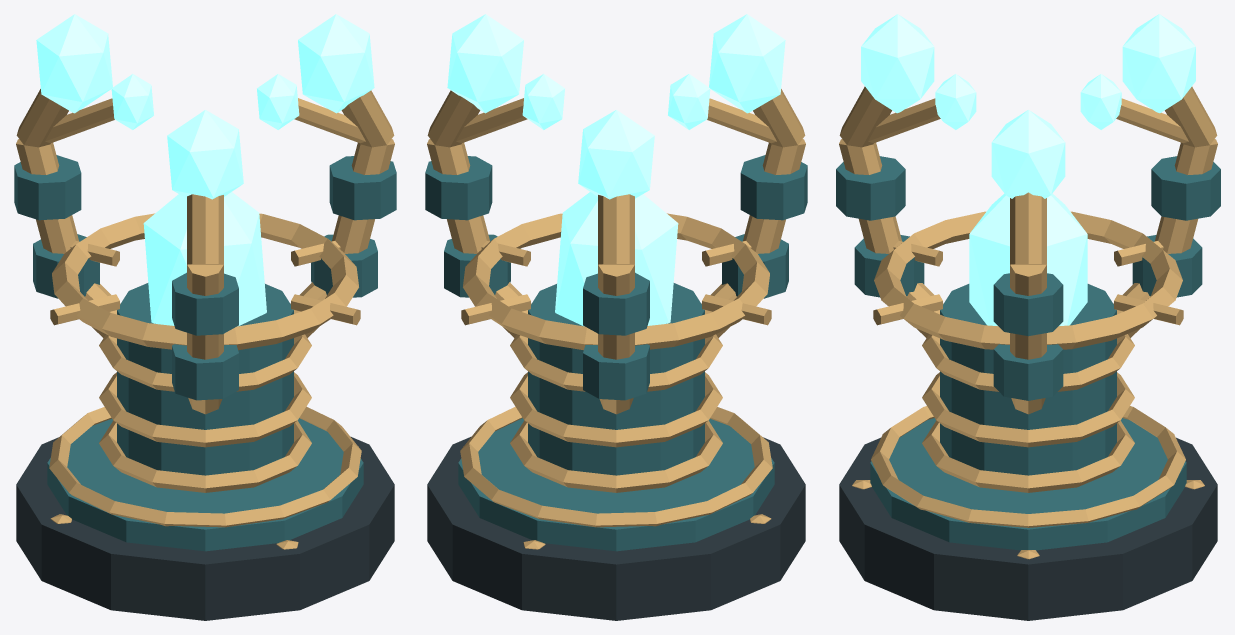
File: evolution-arc-web.glb
The picture shows the model from 3 angles, left to right: view 1: azimuth 30°, elevation 25°; view 2: azimuth 150°, elevation 25°; view 3: azimuth 270°, elevation 25°; orthographic projection.
Parts seen in each view (by area): view 1: evolution-arc-web / Paint | armory deep Hanseatic enamel, evolution-arc-web / Brass | armory machined champagne bronze, evolution-arc-web / Structure | armory dark pressure steel, evolution-arc-web / Lamp | armory pale electric mint, Runtime flywheel Y | evolution-arc-web; view 2: evolution-arc-web / Paint | armory deep Hanseatic enamel, evolution-arc-web / Brass | armory machined champagne bronze, evolution-arc-web / Structure | armory dark pressure steel, evolution-arc-web / Lamp | armory pale electric mint, Runtime flywheel Y | evolution-arc-web; view 3: evolution-arc-web / Paint | armory deep Hanseatic enamel, evolution-arc-web / Brass | armory machined champagne bronze, evolution-arc-web / Structure | armory dark pressure steel, evolution-arc-web / Lamp | armory pale electric mint, Runtime flywheel Y | evolution-arc-web.
Boxes of the visible parts, x1=… form: evolution-arc-web / Paint | armory deep Hanseatic enamel: x1=14, y1=155, x2=396, y2=551; evolution-arc-web / Brass | armory machined champagne bronze: x1=16, y1=89, x2=394, y2=549; evolution-arc-web / Structure | armory dark pressure steel: x1=16, y1=437, x2=394, y2=620; evolution-arc-web / Lamp | armory pale electric mint: x1=36, y1=14, x2=374, y2=326; Runtime flywheel Y | evolution-arc-web: x1=50, y1=213, x2=360, y2=350; evolution-arc-web / Paint | armory deep Hanseatic enamel: x1=425, y1=155, x2=807, y2=551; evolution-arc-web / Brass | armory machined champagne bronze: x1=427, y1=89, x2=805, y2=549; evolution-arc-web / Structure | armory dark pressure steel: x1=427, y1=437, x2=805, y2=620; evolution-arc-web / Lamp | armory pale electric mint: x1=447, y1=14, x2=785, y2=326; Runtime flywheel Y | evolution-arc-web: x1=461, y1=213, x2=771, y2=350; evolution-arc-web / Paint | armory deep Hanseatic enamel: x1=836, y1=156, x2=1220, y2=550; evolution-arc-web / Brass | armory machined champagne bronze: x1=839, y1=86, x2=1217, y2=559; evolution-arc-web / Structure | armory dark pressure steel: x1=839, y1=437, x2=1217, y2=620; evolution-arc-web / Lamp | armory pale electric mint: x1=861, y1=14, x2=1195, y2=325; Runtime flywheel Y | evolution-arc-web: x1=873, y1=211, x2=1183, y2=349.
Size of the model in its own units: 1.69 by 2.28 by 1.61.
